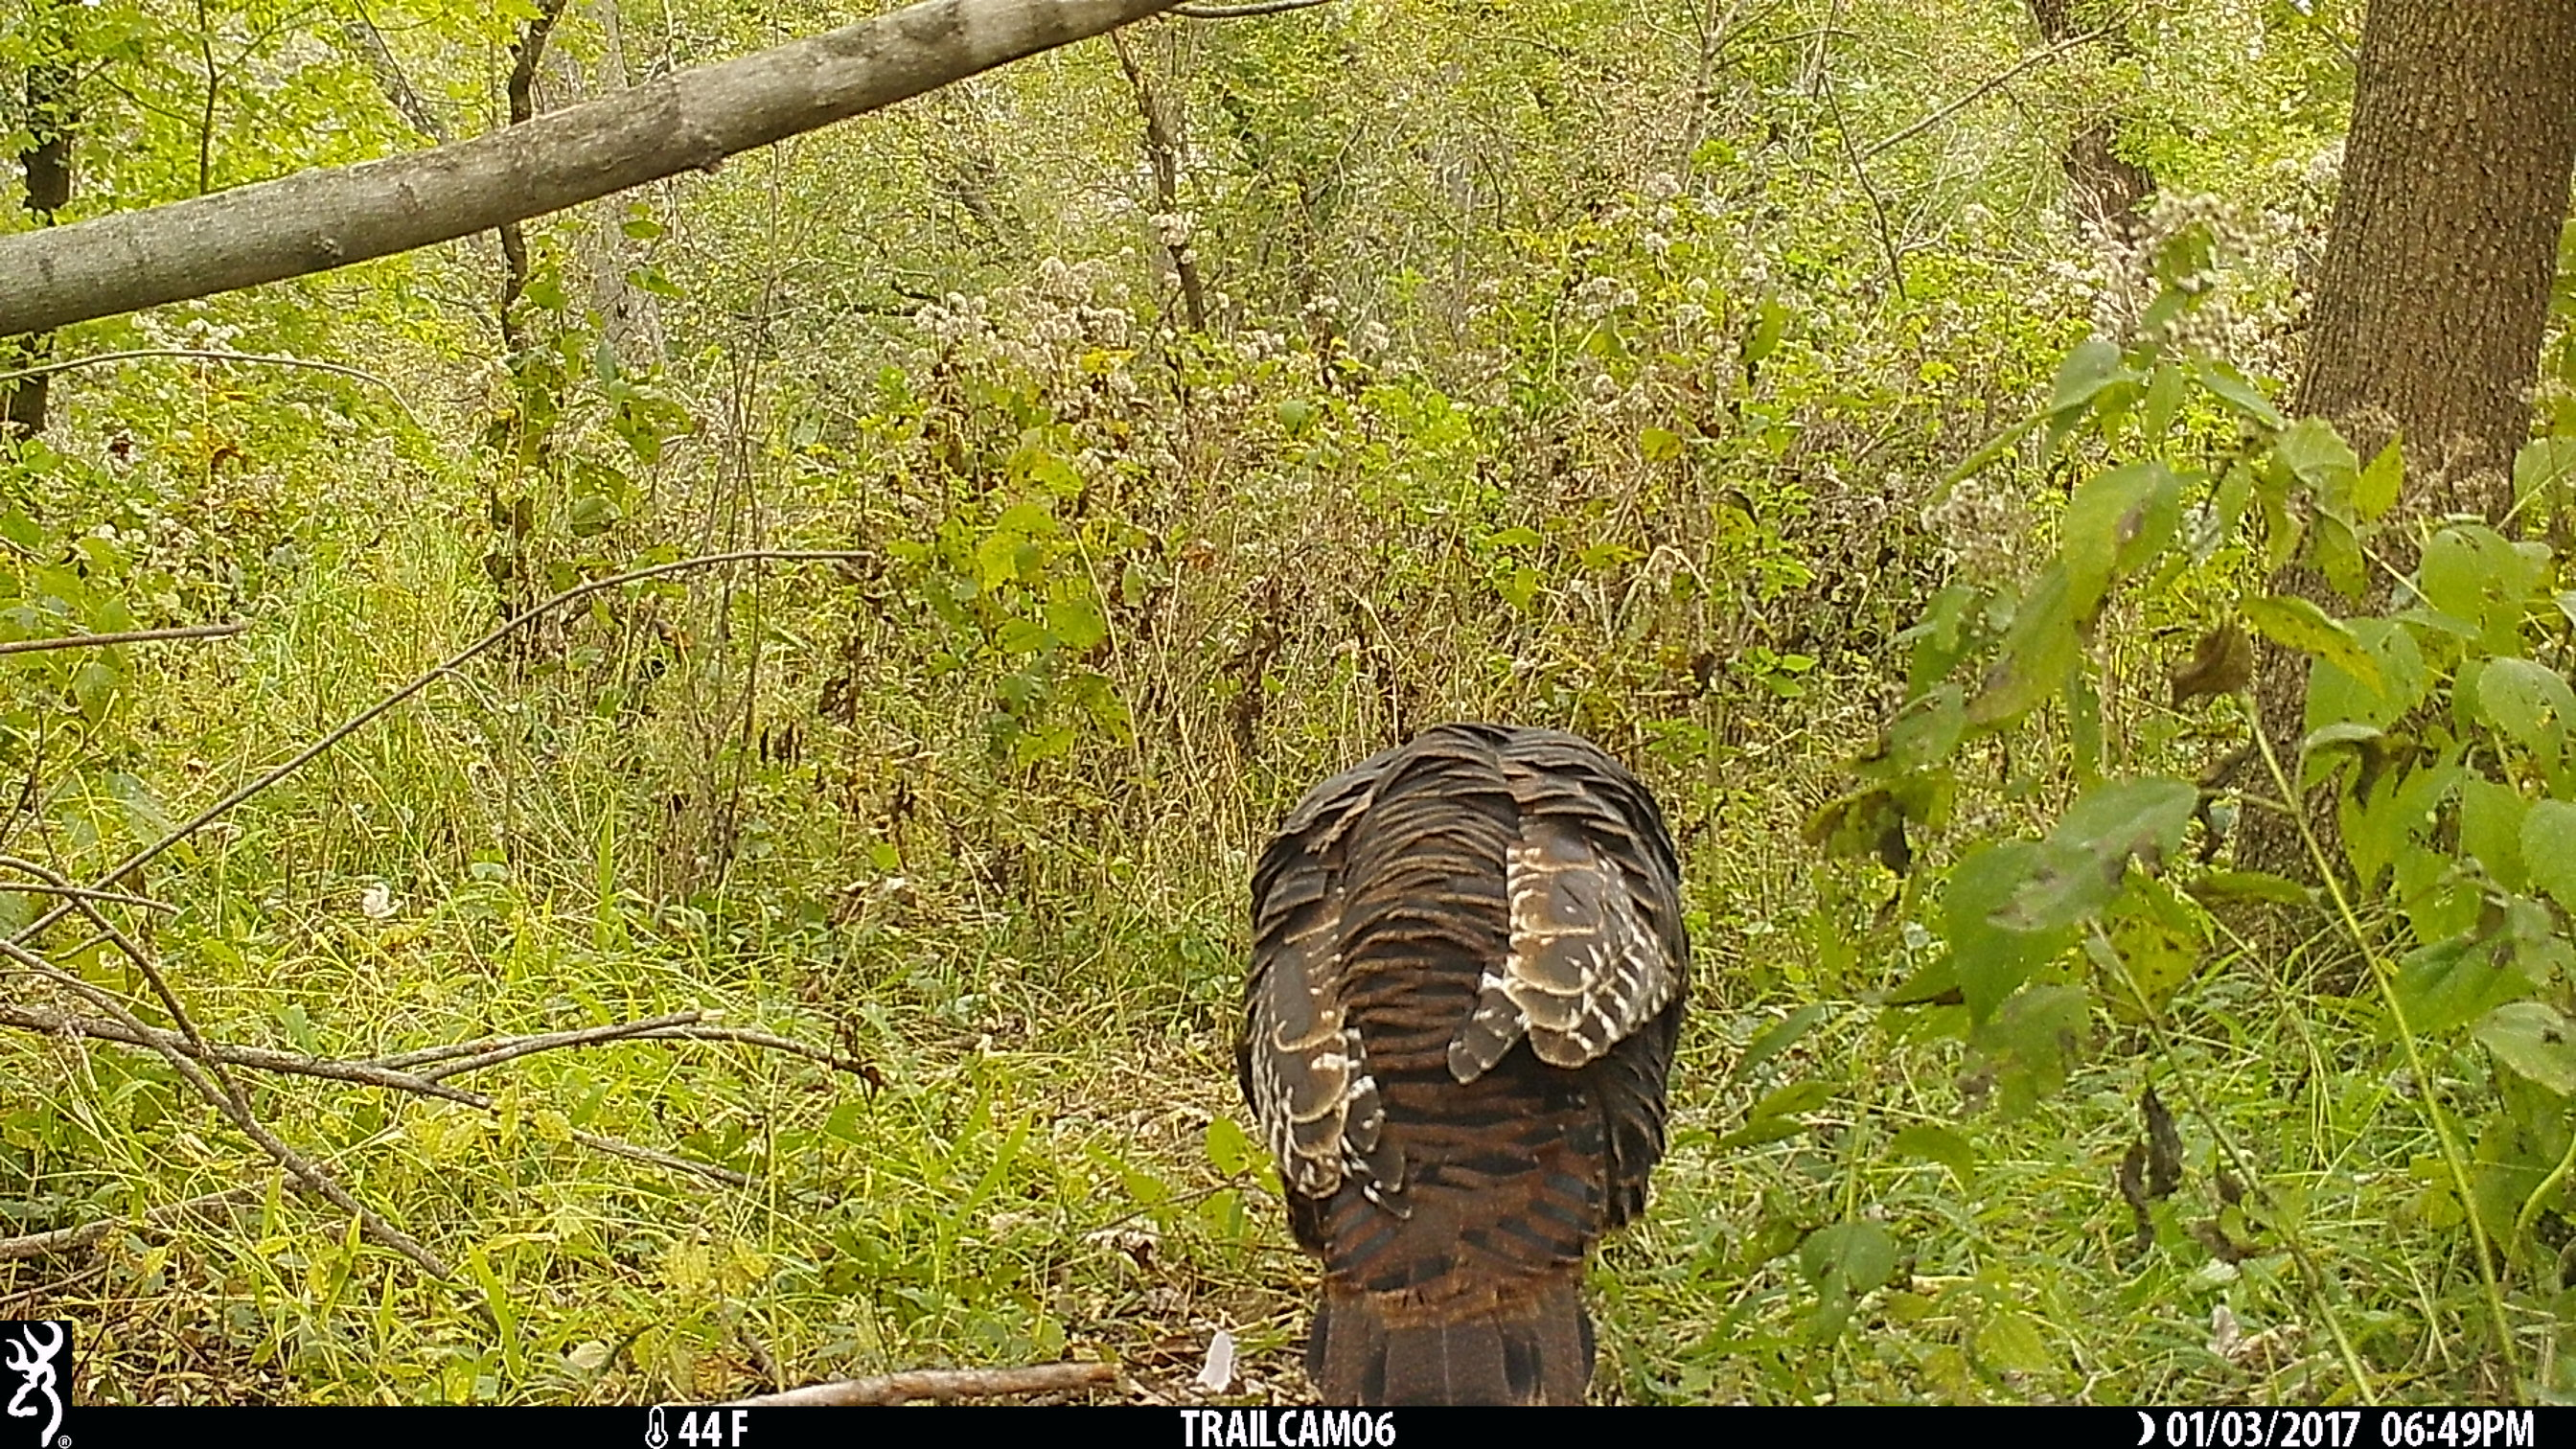Turkey: (1233, 722, 1693, 1405)
